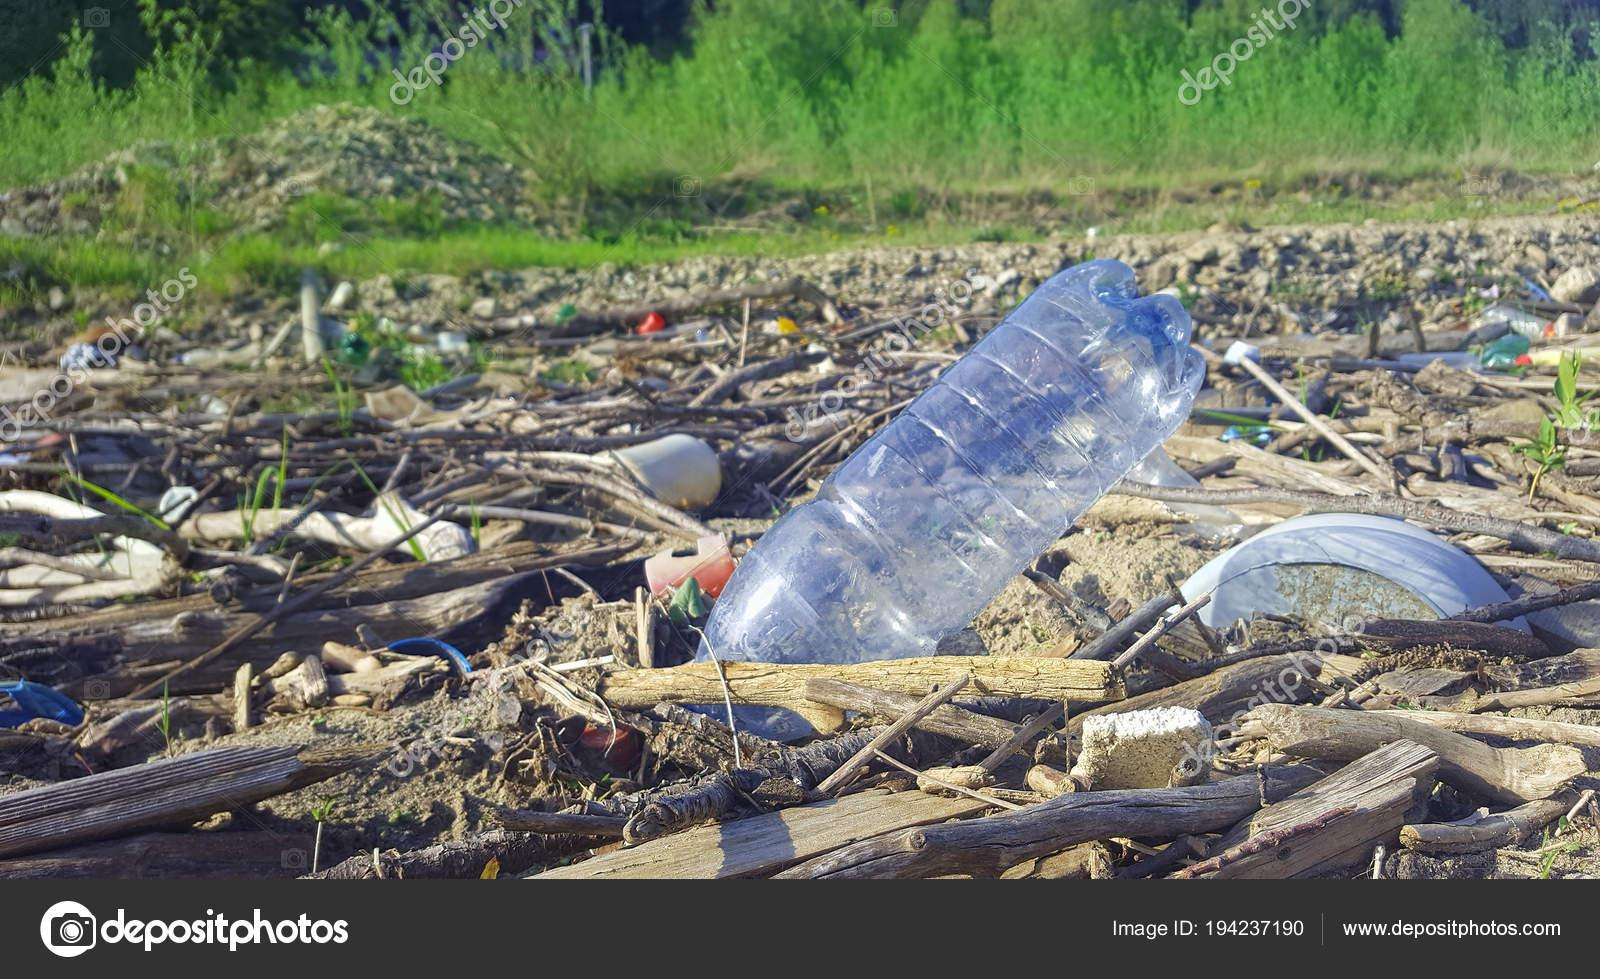bottle: (648, 225, 1227, 743)
